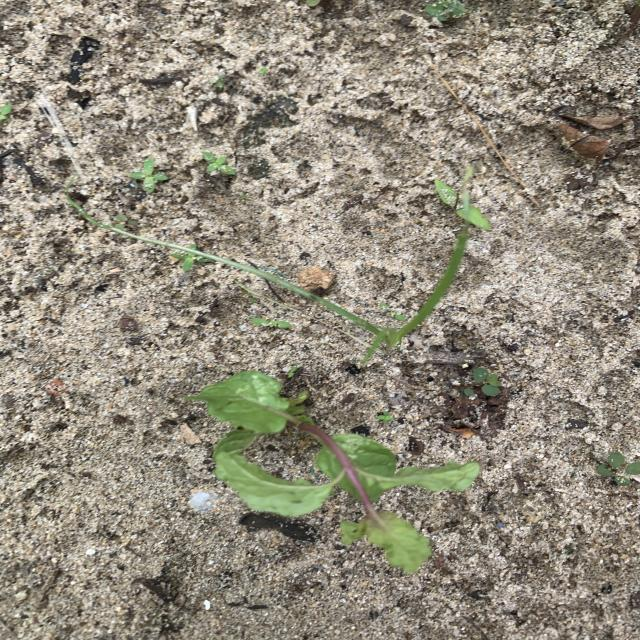crop: (186, 371, 479, 573)
weed: (86, 217, 467, 366), (434, 165, 490, 230), (596, 452, 640, 486), (130, 156, 168, 194), (462, 367, 501, 398), (424, 0, 468, 24), (200, 151, 236, 178), (170, 252, 215, 272), (378, 302, 407, 322), (110, 214, 141, 231), (250, 317, 291, 329), (0, 103, 13, 129), (376, 411, 396, 425), (213, 75, 225, 89), (287, 367, 298, 378), (306, 0, 321, 7), (259, 66, 269, 76), (247, 295, 258, 304)
